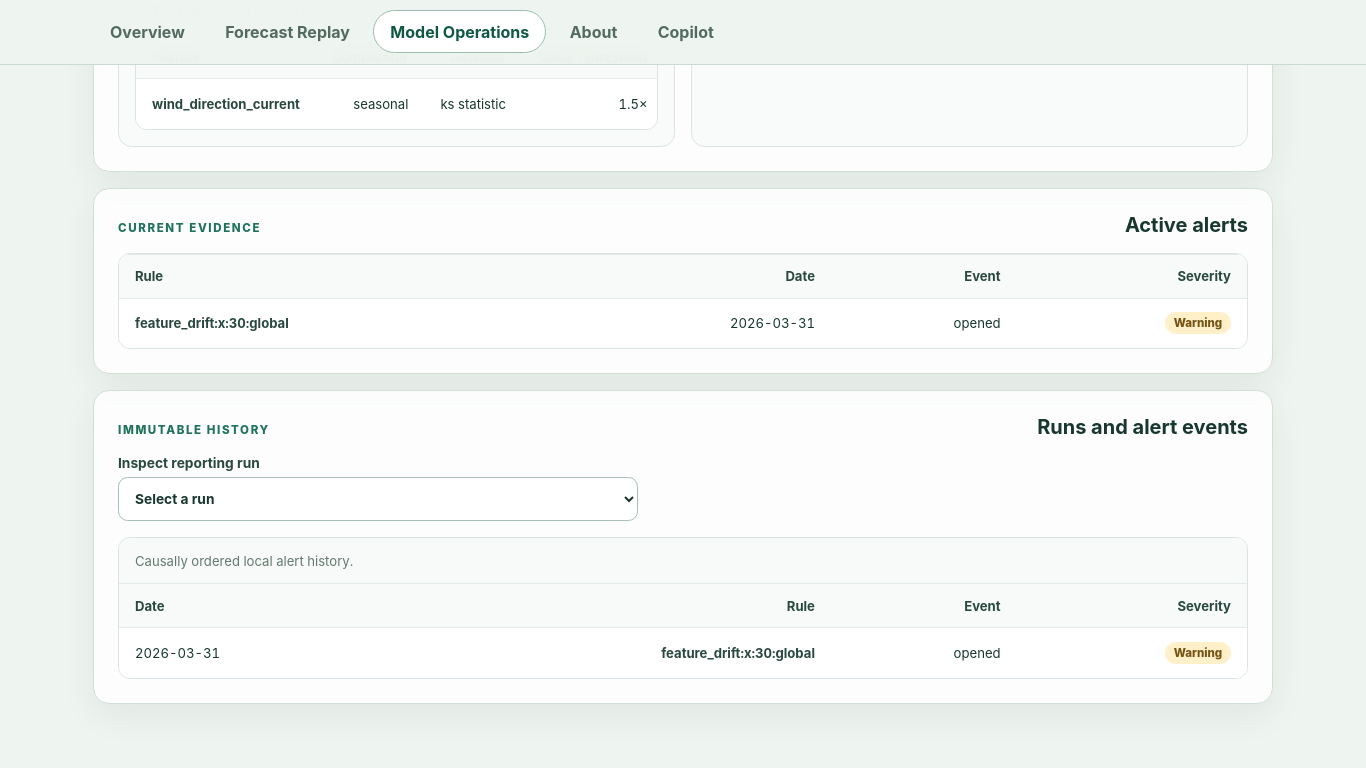
Test: App pages › loads a selected reporting run without exposing local paths
The width and height of the screenshot is (1366, 768).
(page scrolled)
Select "2026-03-31 — succeeded" in the dropdown labelled "Inspect reporting run": (378, 499) left=118, top=477, right=638, bottom=521
(page scrolled)
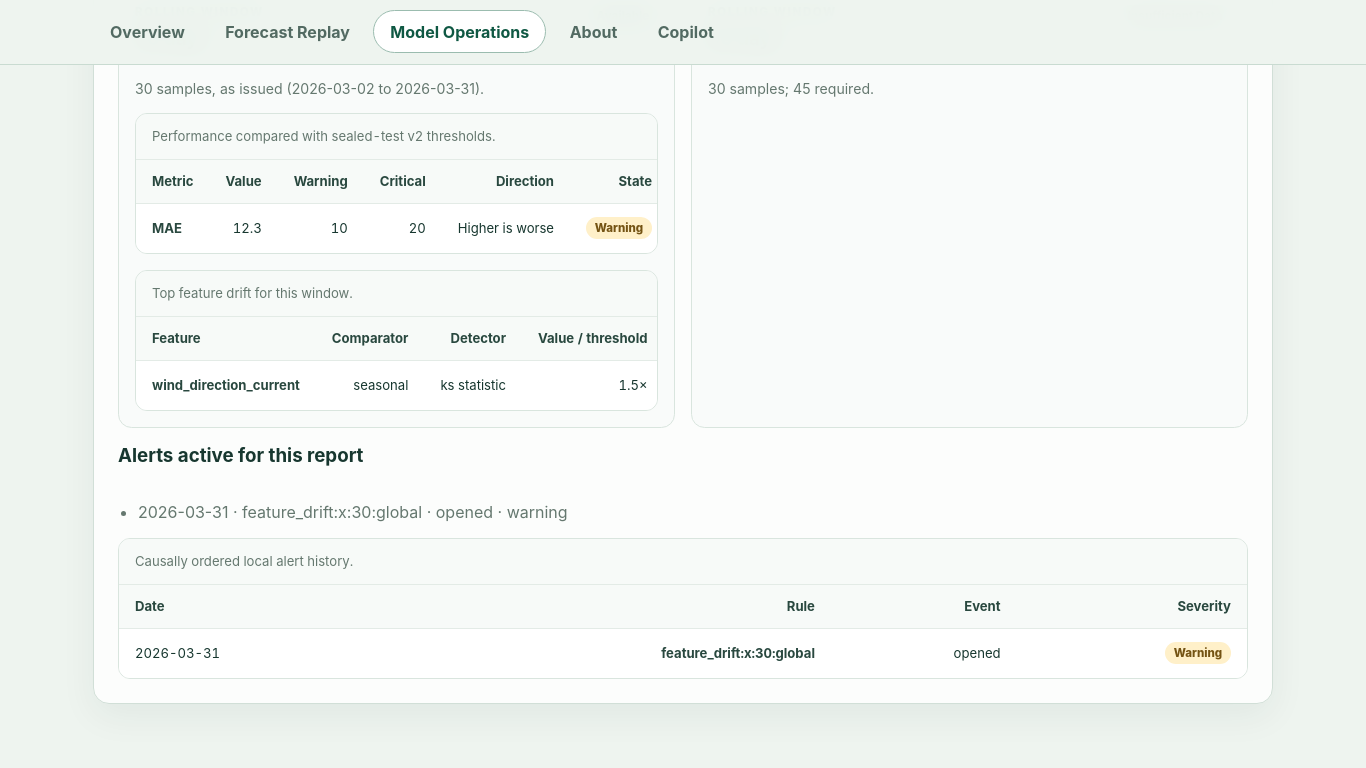
expect the number of headings "30 days" is 2: met
expect the heading "Alerts active for this report" is shown: met, box left=118, top=444, right=364, bottom=467
